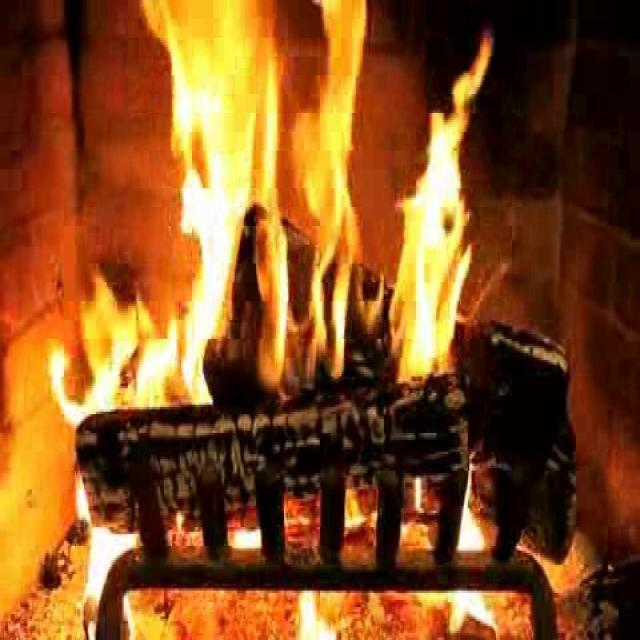Fire: (163, 0, 469, 376)
